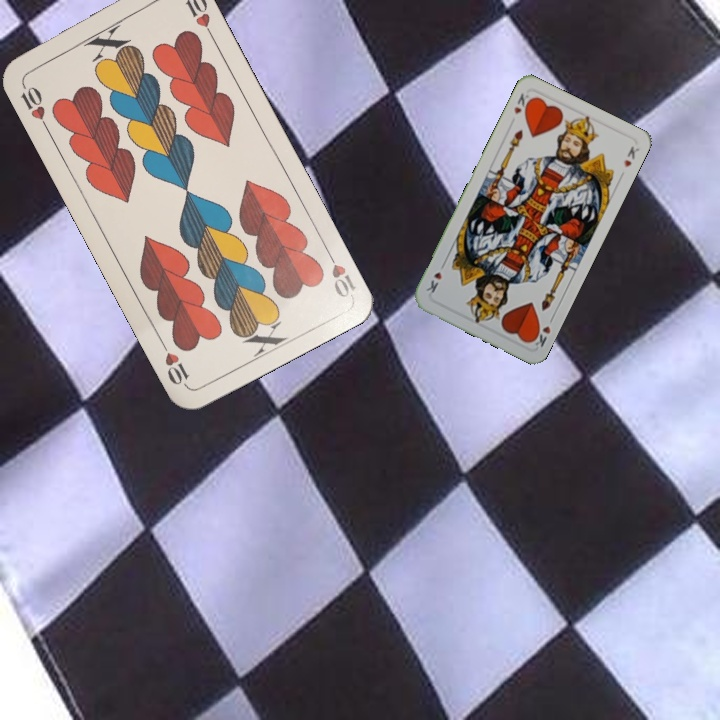H10: (321, 245, 359, 301), (16, 78, 52, 133)
HK: (527, 312, 557, 349), (510, 89, 535, 117)
